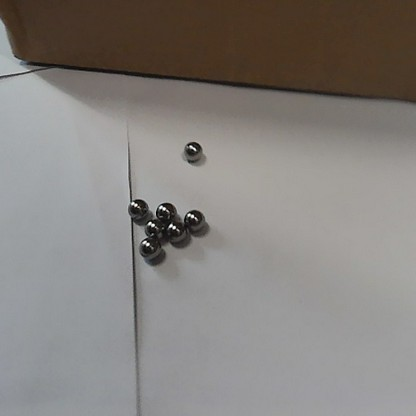ironball: (152, 199, 179, 224), (181, 208, 208, 233), (138, 234, 163, 260), (163, 221, 187, 246), (180, 139, 203, 163), (128, 195, 148, 219), (144, 216, 164, 240)
